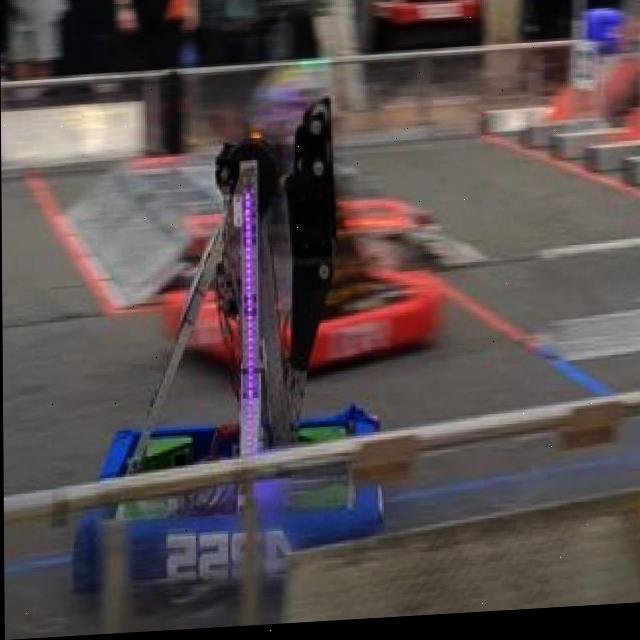robot: (68, 105, 375, 605), (154, 158, 454, 377)
